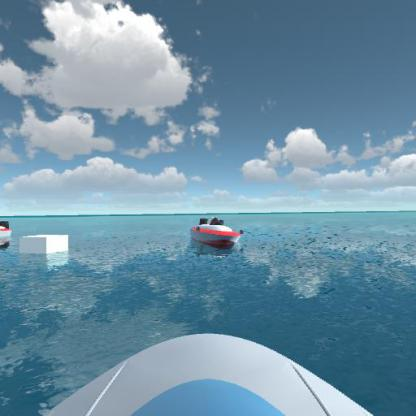usv3: (184, 213, 246, 252), (0, 212, 20, 249)
